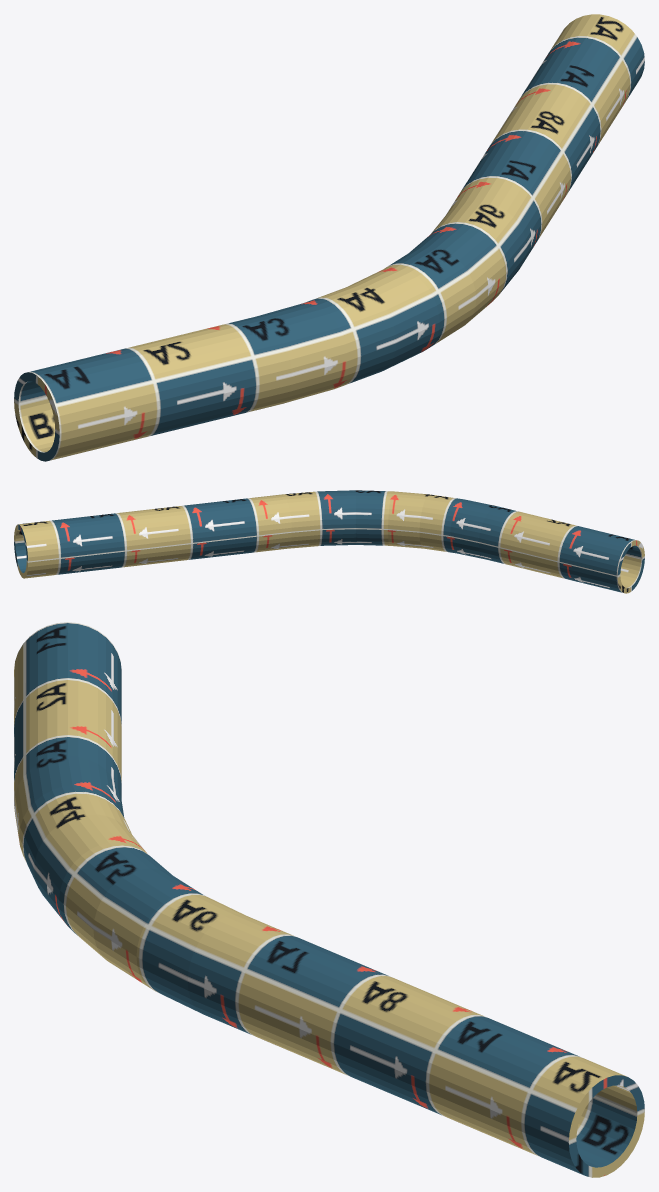
The model's file is PIPE_Elbow45.fbx.
3 views of the same model, one above another, from view 1: azimuth 30°, elevation 25°; view 2: azimuth 150°, elevation 25°; view 3: azimuth 270°, elevation 25° (orthographic). The views are drawn at different scales.
Parts seen in each view (by area): view 1: PIPE_Elbow45; view 2: PIPE_Elbow45; view 3: PIPE_Elbow45.
Boxes of the visible parts, box(x1,y1,x2,y2) form: PIPE_Elbow45: box(14, 14, 644, 461); PIPE_Elbow45: box(14, 490, 644, 593); PIPE_Elbow45: box(14, 622, 644, 1177).
Bounding box in the file's own units: 207 × 20 × 117.
Materials: 1 (1 with a texture image).
